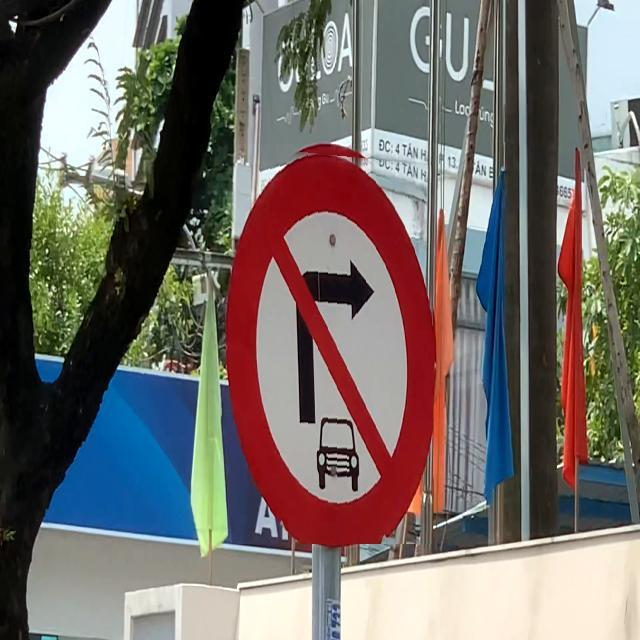P-103b: (226, 144, 433, 544)
